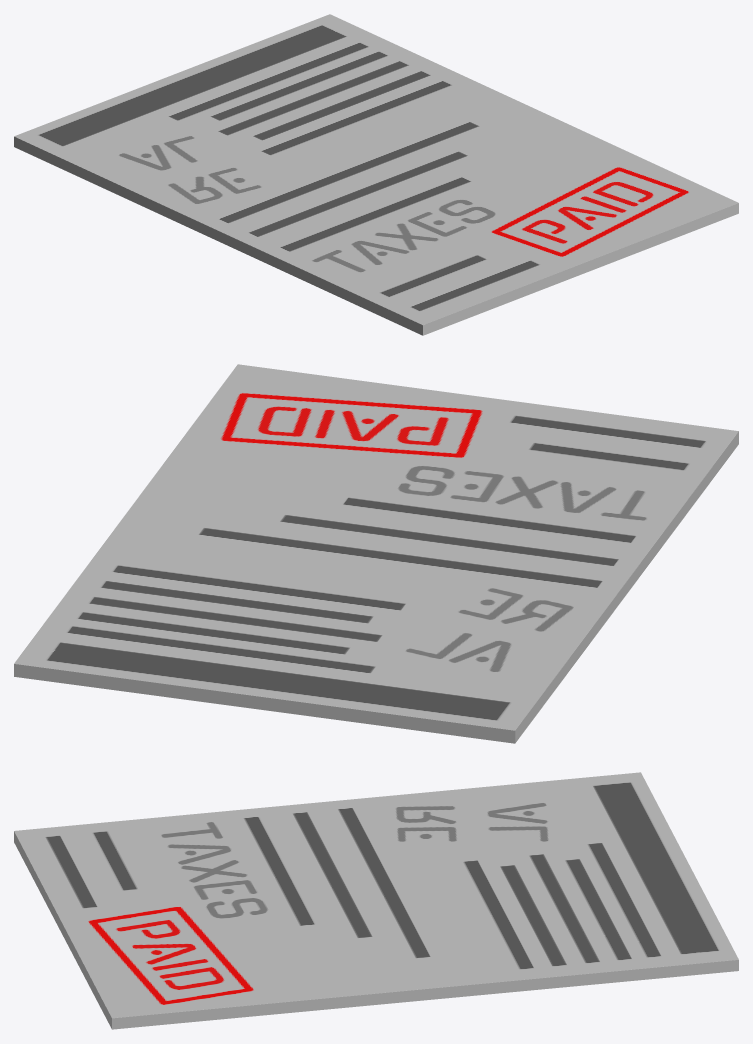
The model's file is Taxes.fbx.
3 views of the same model, one above another, from view 1: azimuth 30°, elevation 25°; view 2: azimuth 150°, elevation 25°; view 3: azimuth 270°, elevation 25° (orthographic). The views are drawn at different scales.
Parts seen in each view (by area): view 1: Taxes, Cube; view 2: Taxes, Cube; view 3: Taxes, Cube.
Boxes of the visible parts, box(x1,y1,x2,y2) form: Taxes: box(14, 14, 738, 324); Cube: box(14, 136, 738, 335); Taxes: box(14, 364, 738, 730); Cube: box(14, 431, 738, 743); Taxes: box(14, 772, 738, 1018); Cube: box(14, 831, 738, 1029).
Size of the model in its own units: 90.65 by 1.94 by 113.
